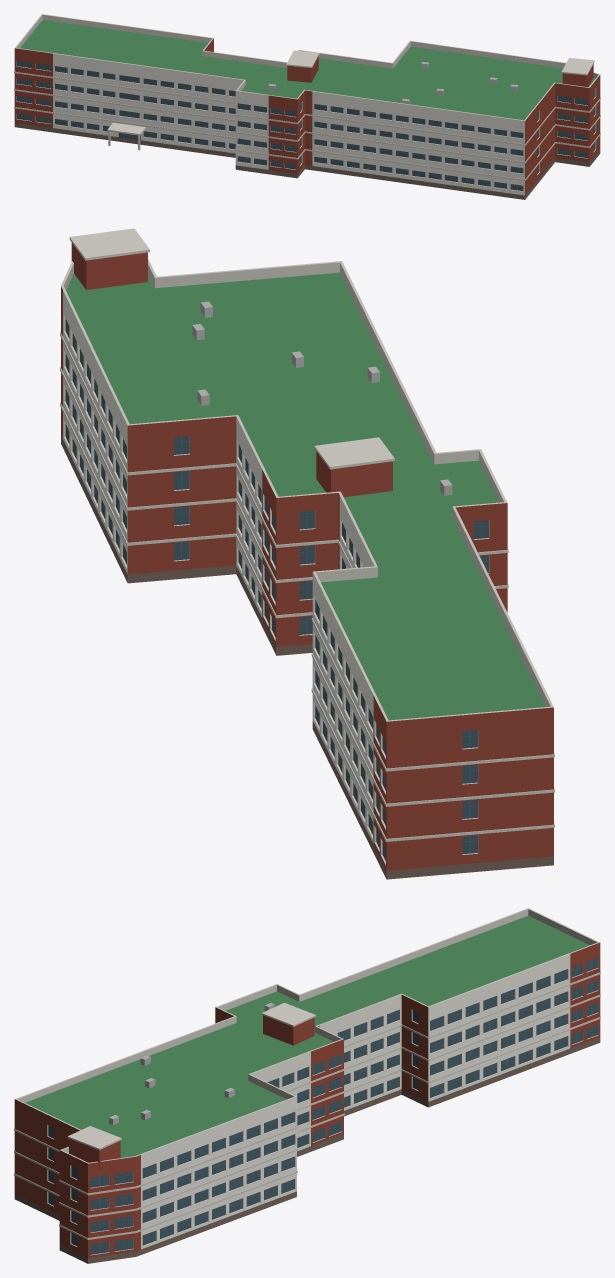
3 views of the same model, one above another, from view 1: azimuth 30°, elevation 25°; view 2: azimuth 150°, elevation 25°; view 3: azimuth 270°, elevation 25° (orthographic). The views are drawn at different scales.
Visible parts, largest first — view 1: wing1__wall-plaster, wing1__roof, wing1__trim-concrete, wing1__glass, wing1__brick, wing1__base-stone, wing1__frame, wing1__canopy-concrete, wing1__equipment; view 2: wing1__roof, wing1__brick, wing1__trim-concrete, wing1__wall-plaster, wing1__glass, wing1__base-stone, wing1__frame, wing1__equipment; view 3: wing1__roof, wing1__wall-plaster, wing1__brick, wing1__glass, wing1__trim-concrete, wing1__base-stone, wing1__frame, wing1__equipment.
Boxes of the visible parts, x1=… form: wing1__wall-plaster: x1=53, y1=53, x2=524, y2=195; wing1__roof: x1=20, y1=20, x2=595, y2=120; wing1__trim-concrete: x1=14, y1=14, x2=600, y2=191; wing1__glass: x1=16, y1=61, x2=595, y2=190; wing1__brick: x1=14, y1=38, x2=600, y2=194; wing1__base-stone: x1=14, y1=123, x2=600, y2=199; wing1__frame: x1=17, y1=62, x2=595, y2=189; wing1__canopy-concrete: x1=107, y1=122, x2=145, y2=150; wing1__equipment: x1=268, y1=62, x2=518, y2=104; wing1__roof: x1=66, y1=272, x2=545, y2=720; wing1__brick: x1=61, y1=243, x2=553, y2=870; wing1__trim-concrete: x1=60, y1=228, x2=554, y2=864; wing1__wall-plaster: x1=63, y1=291, x2=374, y2=843; wing1__glass: x1=65, y1=319, x2=488, y2=860; wing1__base-stone: x1=61, y1=435, x2=553, y2=879; wing1__frame: x1=65, y1=320, x2=489, y2=853; wing1__equipment: x1=192, y1=301, x2=452, y2=495; wing1__roof: x1=25, y1=915, x2=589, y2=1157; wing1__wall-plaster: x1=141, y1=954, x2=570, y2=1249; wing1__brick: x1=14, y1=942, x2=600, y2=1258; wing1__glass: x1=48, y1=957, x2=597, y2=1254; wing1__trim-concrete: x1=14, y1=908, x2=600, y2=1255; wing1__base-stone: x1=14, y1=1037, x2=600, y2=1263; wing1__frame: x1=48, y1=960, x2=597, y2=1253; wing1__equipment: x1=109, y1=1003, x2=274, y2=1125.
Bounding box in the file's own units: 88.54 × 18.45 × 85.71.
